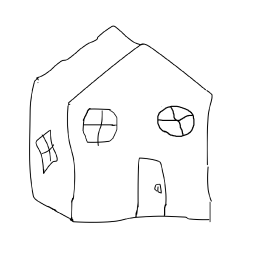closed_window: (78, 106, 122, 152), (150, 103, 199, 144), (32, 128, 62, 175)
door: (132, 146, 174, 222)
single_line_roof: (63, 40, 221, 109)
wall: (63, 92, 218, 228)
